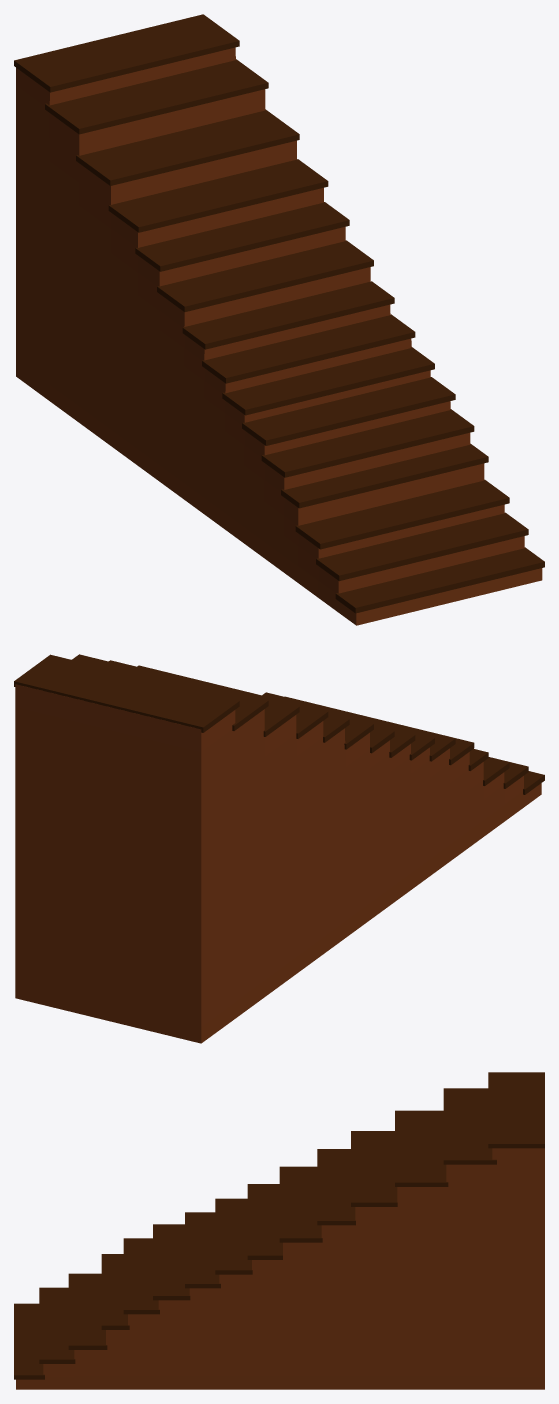
File: Stairssssss.fbx
3 views of the same model, one above another, from view 1: azimuth 30°, elevation 25°; view 2: azimuth 150°, elevation 25°; view 3: azimuth 270°, elevation 25° (orthographic). The views are drawn at different scales.
Parts seen in each view (by area): view 1: Cube.003; view 2: Cube.003; view 3: Cube.003.
Part boxes in pixels (box(x1,y1,x2,y2)): Cube.003: box(14, 14, 544, 625); Cube.003: box(14, 654, 544, 1043); Cube.003: box(14, 1072, 544, 1389).
Bounding box in the file's own units: 379 × 605 × 1183.
